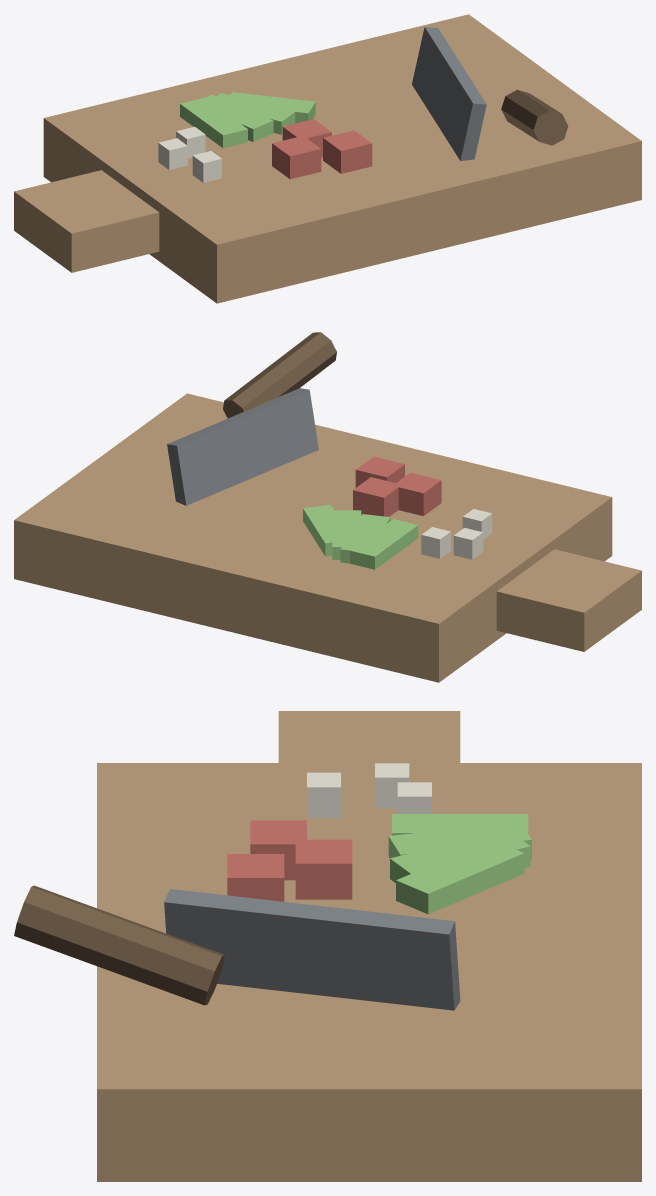
File: cutting_board.glb
3 renders of one model, top to bottom at view 1: azimuth 30°, elevation 25°; view 2: azimuth 150°, elevation 25°; view 3: azimuth 270°, elevation 25°, orthographic. The views are drawn at different scales.
Parts seen in each view (by area): view 1: Cube, Cube.001, Cube.002, Cylinder, Cube.003, Cube.007, Cube.008, Cube.004, Cube.005, Cube.006, Cube.009, Cube.010 (+2 smaller); view 2: Cube, Cube.001, Cube.002, Cylinder, Cube.003, Cube.007, Cube.009, Cube.006, Cube.004, Cube.008, Cube.005, Cube.012 (+2 smaller); view 3: Cube, Cube.002, Cylinder, Cube.001, Cube.006, Cube.009, Cube.004, Cube.008, Cube.005, Cube.003, Cube.007, Cube.010 (+2 smaller).
Part boxes in pixels (x1,y1,x2,y2): Cube: (43,14,641,303); Cube.001: (14,170,159,272); Cube.002: (412,27,486,160); Cylinder: (501,89,568,145); Cube.003: (180,97,247,148); Cube.007: (272,135,321,179); Cube.008: (323,130,372,173); Cube.004: (192,94,273,141); Cube.005: (216,93,295,134); Cube.006: (228,92,315,123); Cube.009: (282,119,331,157); Cube.010: (192,151,221,182); Cube: (14,393,612,682); Cube.001: (496,549,641,651); Cube.002: (167,388,318,505); Cylinder: (223,332,336,418); Cube.003: (350,519,418,569); Cube.007: (392,472,441,515); Cube.009: (353,477,398,516); Cube.006: (303,505,339,556); Cube.004: (340,514,390,563); Cube.008: (355,456,404,487); Cube.005: (332,510,361,559); Cube.012: (453,527,483,559); Cube: (97,763,641,1181); Cube.002: (164,889,460,1010); Cylinder: (14,885,224,1005); Cube.001: (278,711,460,762); Cube.006: (396,842,524,914); Cube.009: (295,839,352,899); Cube.004: (388,821,531,860); Cube.008: (227,854,284,901); Cube.005: (390,830,530,882); Cube.003: (392,814,528,835); Cube.007: (250,820,306,880); Cube.010: (307,772,340,817).
Bounding box in the file's own units: 0.82 × 0.2024 × 0.553.
